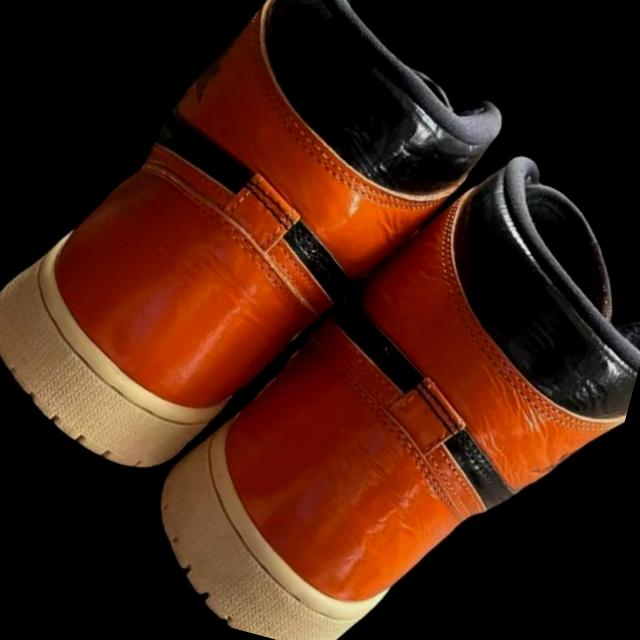nike_original_jordan: (0, 0, 565, 589), (85, 57, 640, 640)
